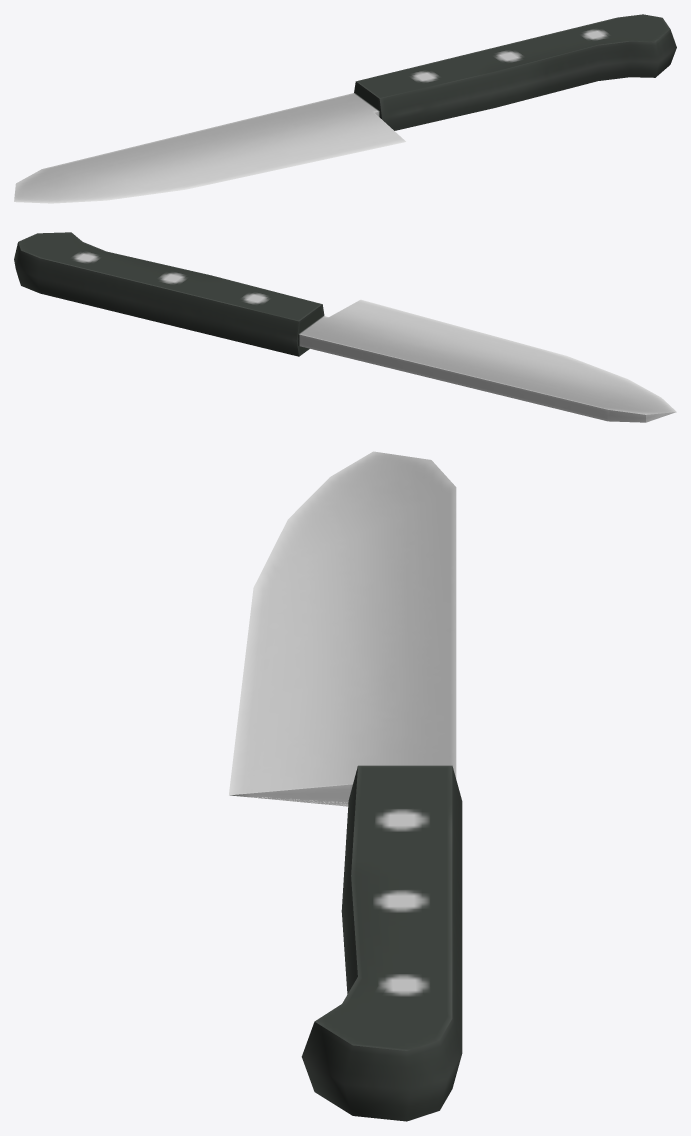
File: KR_Kitchen_knife_01_02.fbx
3 renders of one model, top to bottom at view 1: azimuth 30°, elevation 25°; view 2: azimuth 150°, elevation 25°; view 3: azimuth 270°, elevation 25°, orthographic. The views are drawn at different scales.
Visible parts, largest first — view 1: kr_kitchen_knife_01_02; view 2: kr_kitchen_knife_01_02; view 3: kr_kitchen_knife_01_02.
Part boxes in pixels (<box>): kr_kitchen_knife_01_02: <box>14,14,676,203</box>; kr_kitchen_knife_01_02: <box>14,232,676,422</box>; kr_kitchen_knife_01_02: <box>229,451,462,1121</box>.
Size of the model in its own units: 19.4 by 1 by 3.
